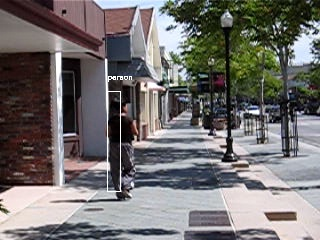person: (106, 102, 137, 201), (105, 102, 136, 201), (107, 102, 138, 201), (106, 101, 137, 200), (106, 103, 137, 202)
target_negative: (27, 122, 176, 169), (75, 210, 170, 231), (264, 147, 286, 212), (285, 159, 301, 212), (222, 113, 230, 177), (173, 230, 260, 235)
